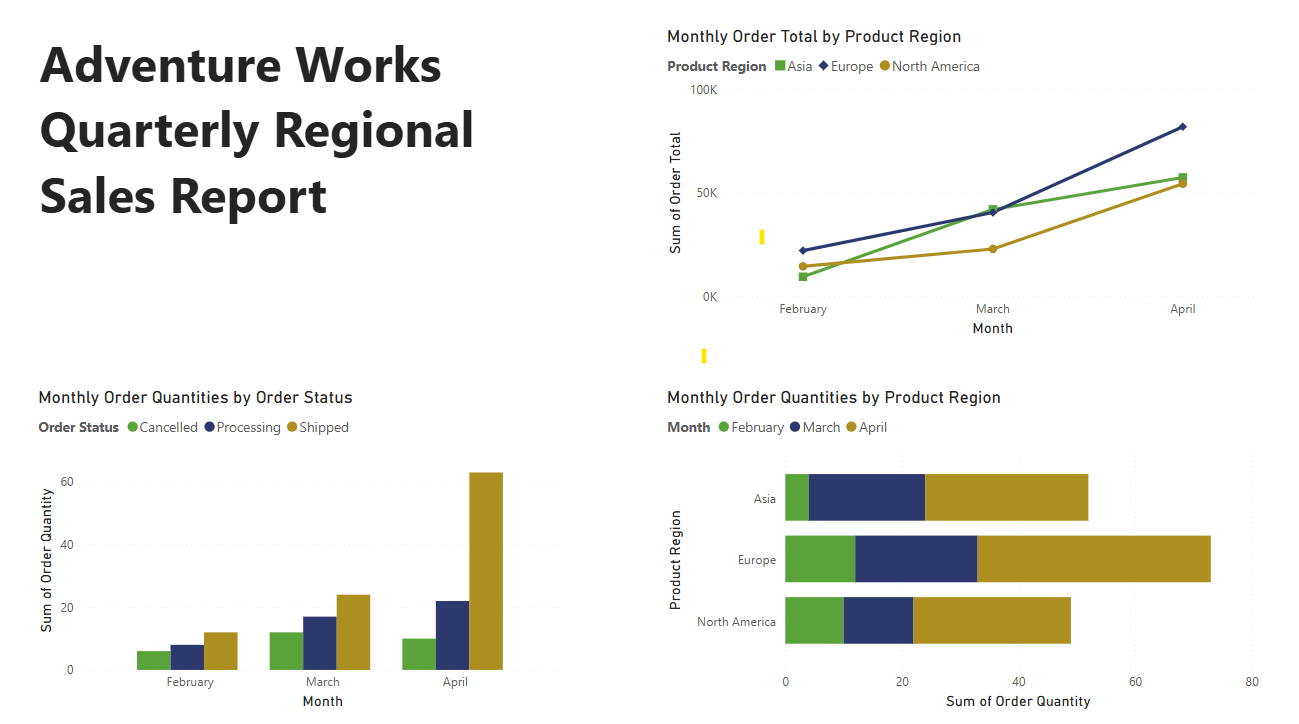

The page's visual inventory and layout, read from the dashboard file:
{"tool":"powerbi","page":{"name":"Page 1","canvas":[1280,720],"ordinal":0},"visuals":[{"type":"barChart","title":"Monthly Order Quantities by Product Region","fields":{"Category":["Sales.Product Region"],"Y":["Sum(Sales.Order Quantity)"],"Series":["Sales.Order Date.Variation.Date Hierarchy.Month"]},"box":[650,384,589,321],"z":3000},{"type":"clusteredColumnChart","title":"Monthly Order Quantities by Order Status","fields":{"Category":["Sales.Month"],"Y":["Sum(Sales.Order Quantity)"],"Series":["Sales.Order Status"]},"box":[36,384,522,321],"z":3125},{"type":"lineChart","title":"Monthly Order Total by Product Region","fields":{"Category":["Sales.Month"],"Y":["Sum(Sales.Order Total)"],"Series":["Sales.Product Region"]},"box":[650,30,589,309],"z":3250},{"type":"textbox","box":[36.2,29.8,522.2,309.5],"z":3500}]}

Visuals, with their boxes in screenshot pixels (x1, y1, x2, y2), scaled from the page's 1280x720 canvas onto the 1299x724 screenshot:
"Monthly Order Quantities by Product Region" barChart: 660/386/1257/709
"Monthly Order Quantities by Order Status" clusteredColumnChart: 37/386/566/709
"Monthly Order Total by Product Region" lineChart: 660/30/1257/341
textbox: 37/30/567/341
